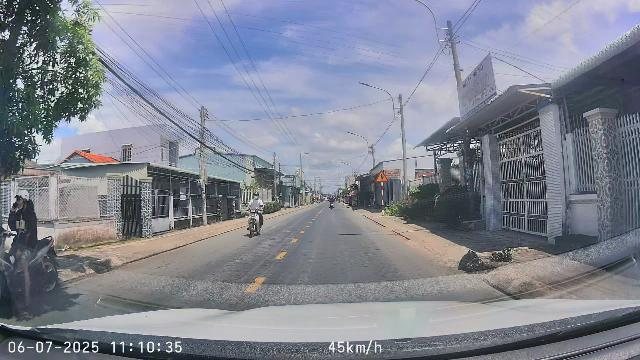207-giao-nhau-voi-duong-khong-uu-tien: (376, 170, 388, 182)
